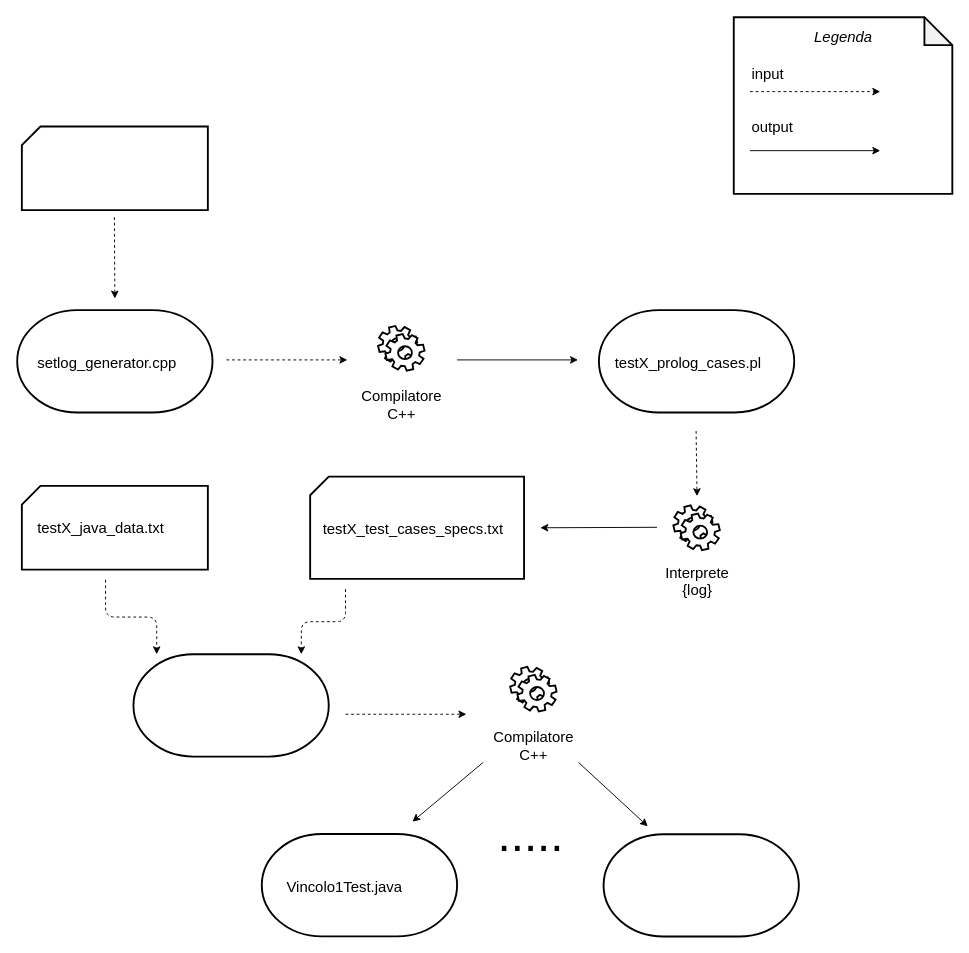
Some shapes in this 969 by 953 pixel diagram are drawn without their labels. Each missing label, with the centre of its shape:
jsetl_generator.cpp: (230,705)
testX_prolog_data.txt: (114,168)
VincoloNTest.java: (700,885)
